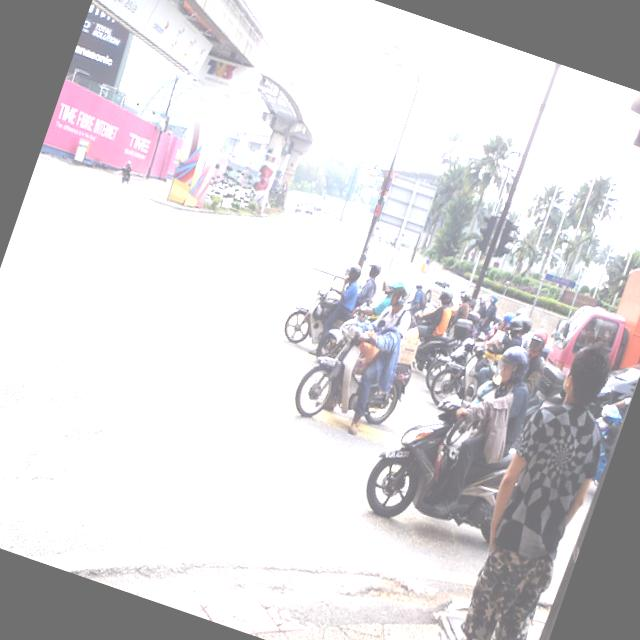Vehicle: (353, 376, 530, 553), (286, 289, 431, 452), (544, 243, 640, 396), (425, 333, 501, 421), (420, 330, 502, 410), (396, 302, 475, 382), (279, 264, 344, 352), (314, 308, 376, 372), (593, 336, 640, 410), (418, 268, 466, 314), (600, 355, 640, 407), (372, 224, 394, 246), (302, 202, 316, 216), (292, 199, 304, 214), (310, 200, 324, 212)
